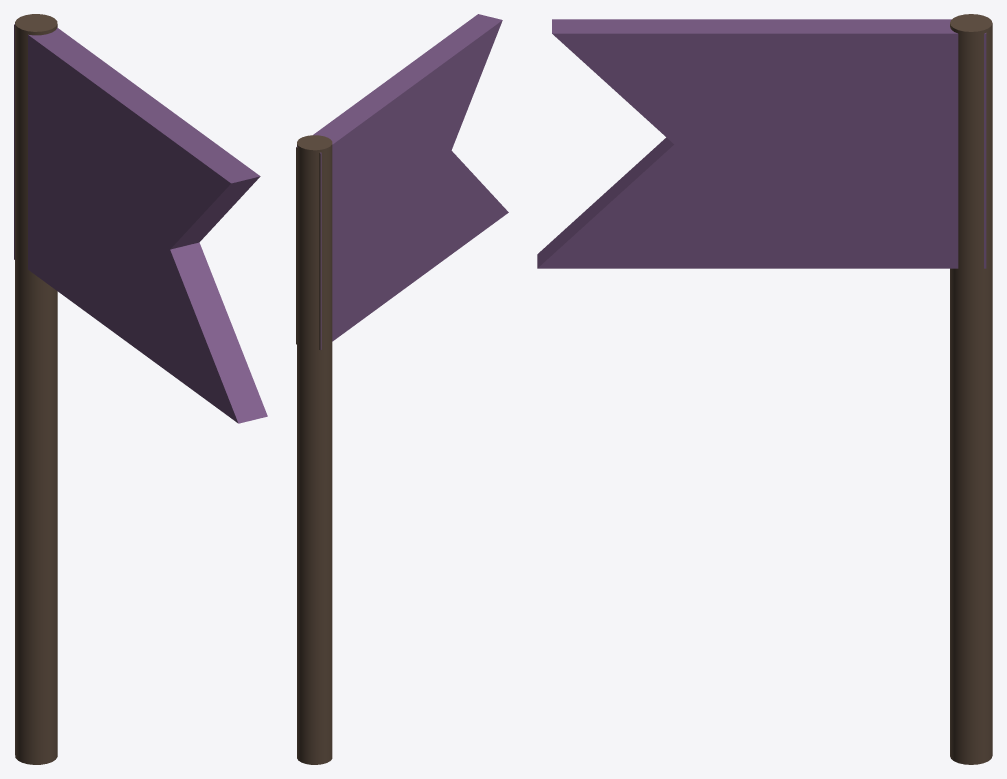
Rendered from map_flag.fbx.
3 views of the same model, side by side, from view 1: azimuth 30°, elevation 25°; view 2: azimuth 150°, elevation 25°; view 3: azimuth 270°, elevation 25° (orthographic). The views are drawn at different scales.
Parts seen in each view (by area): view 1: mapflag; view 2: mapflag; view 3: mapflag.
Part boxes in pixels (x1,y1,x2,y2): mapflag: (14, 14, 267, 764); mapflag: (296, 14, 508, 764); mapflag: (537, 14, 992, 764).
Size of the model in its own units: 0.3256 by 6.18 by 3.48.
